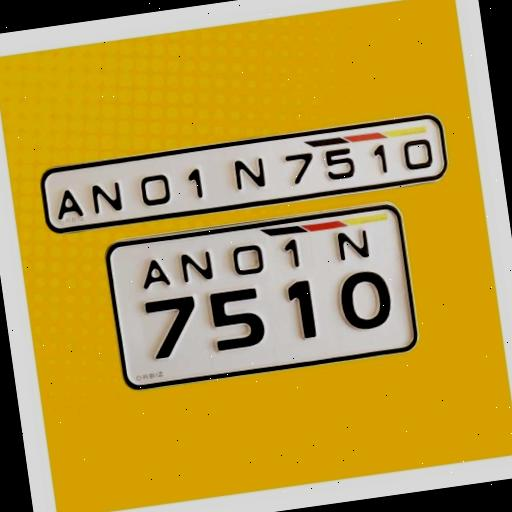number plate: (100, 202, 422, 392), (40, 110, 454, 237)
